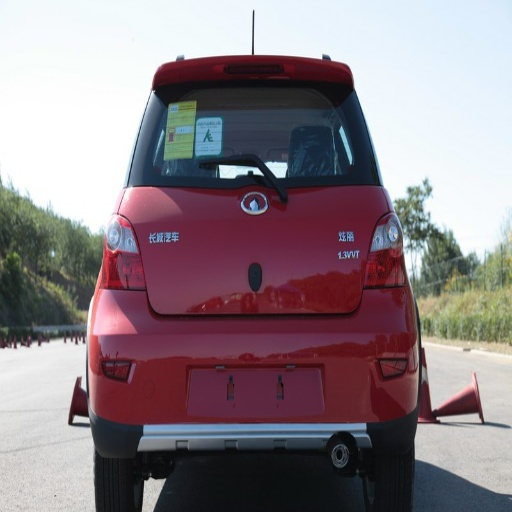back_bumper: (89, 273, 416, 448)
trunk: (125, 187, 402, 409)
